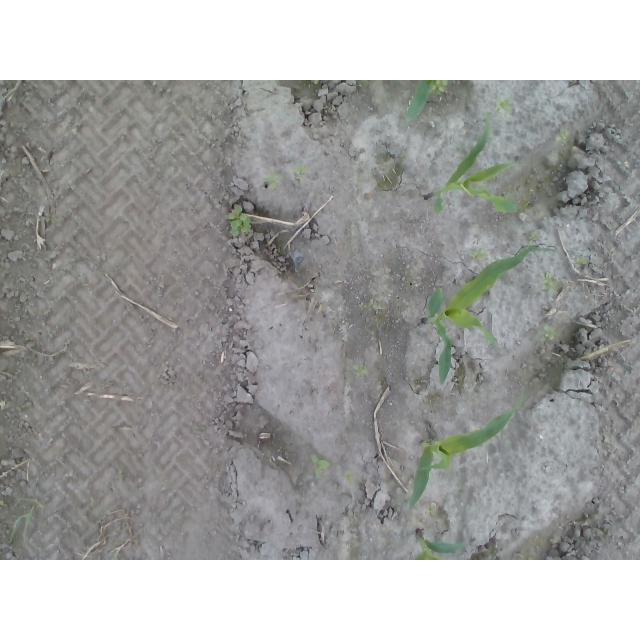Maize: (420, 242, 552, 394), (407, 406, 517, 515), (423, 116, 518, 216), (413, 528, 468, 561), (407, 80, 433, 121)
Weeds: (226, 206, 254, 235), (310, 453, 331, 479), (554, 128, 571, 144), (264, 175, 282, 190), (544, 324, 561, 339), (542, 277, 559, 291), (352, 363, 369, 377), (496, 98, 512, 112), (432, 80, 449, 93), (472, 250, 489, 262), (575, 256, 587, 266), (294, 165, 304, 176)
